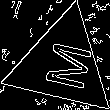M_W: (33, 36, 92, 93)
